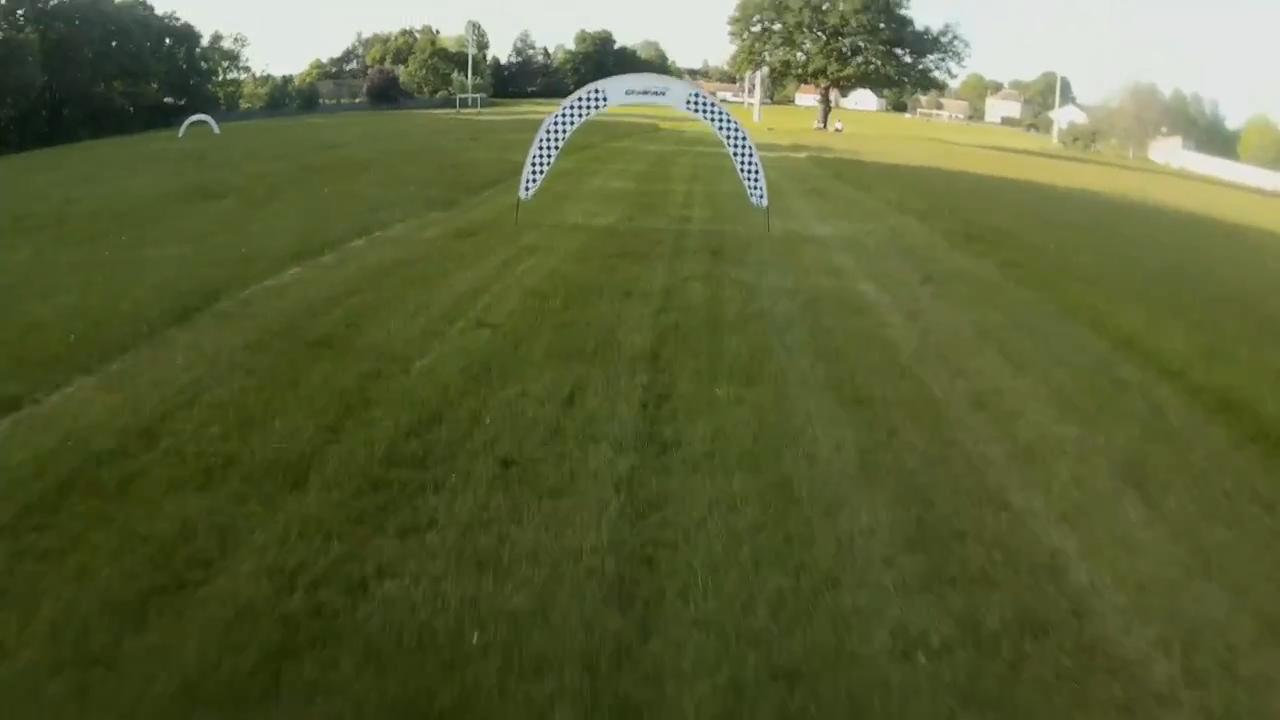gate: (519, 73, 765, 206), (178, 112, 223, 139)
